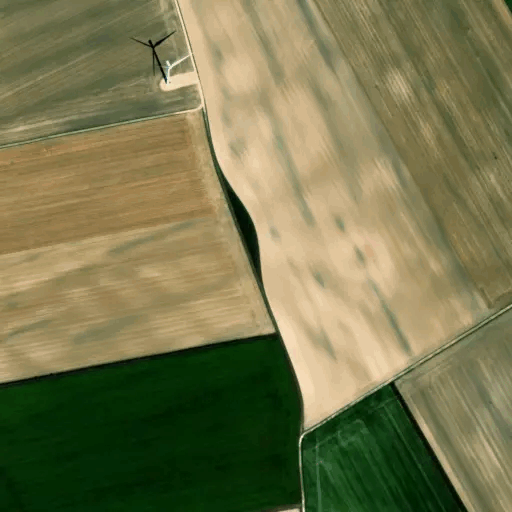wt: (126, 26, 196, 98)
